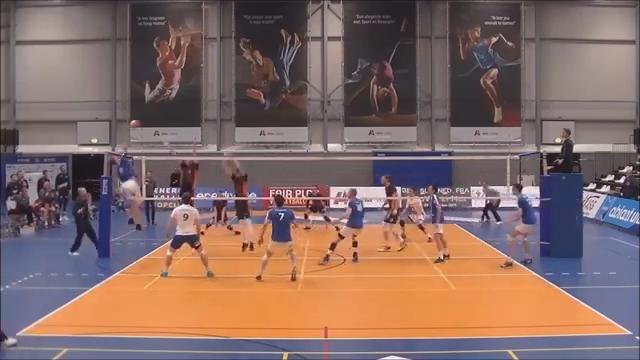Attack: (104, 133, 146, 234)
Block: (217, 146, 258, 255), (160, 135, 205, 205)
Player: (161, 193, 213, 276), (256, 194, 296, 280), (319, 188, 363, 264), (501, 184, 536, 267), (378, 175, 405, 251), (427, 185, 449, 262), (201, 191, 240, 234), (399, 188, 430, 238), (304, 188, 339, 230)
ball: (130, 119, 138, 126)
